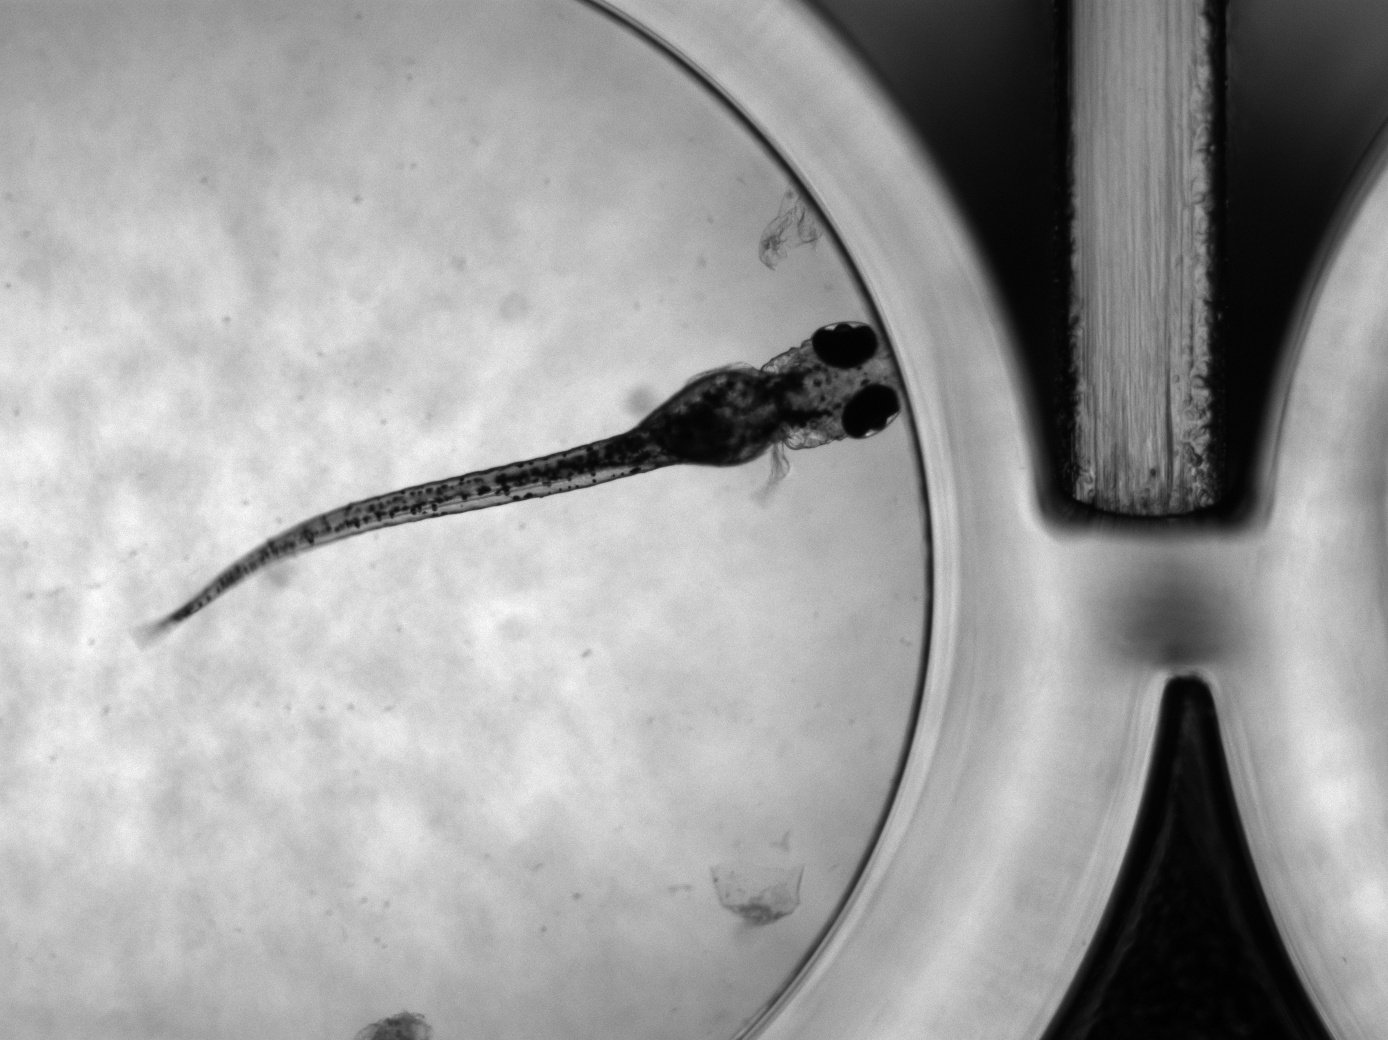embryo: (162, 320, 905, 628)
eye: (841, 383, 902, 440), (812, 321, 878, 369)
yolksac: (661, 371, 784, 466)
